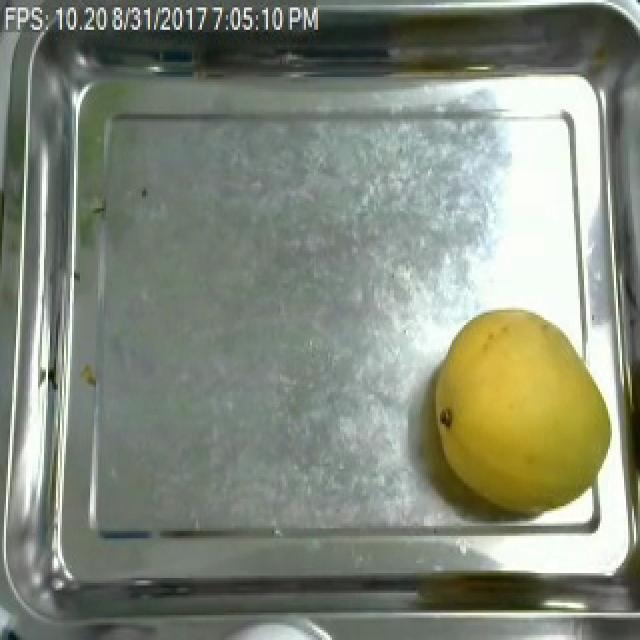fruit: (422, 302, 622, 536)
